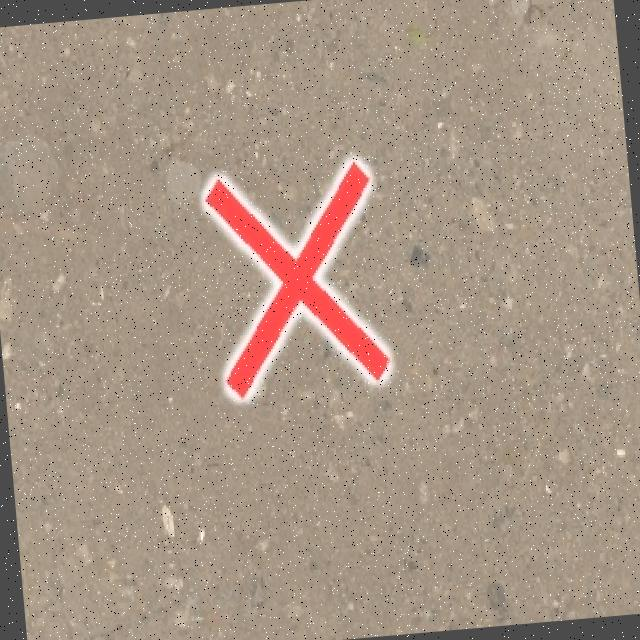x_marker: (202, 159, 388, 397)
